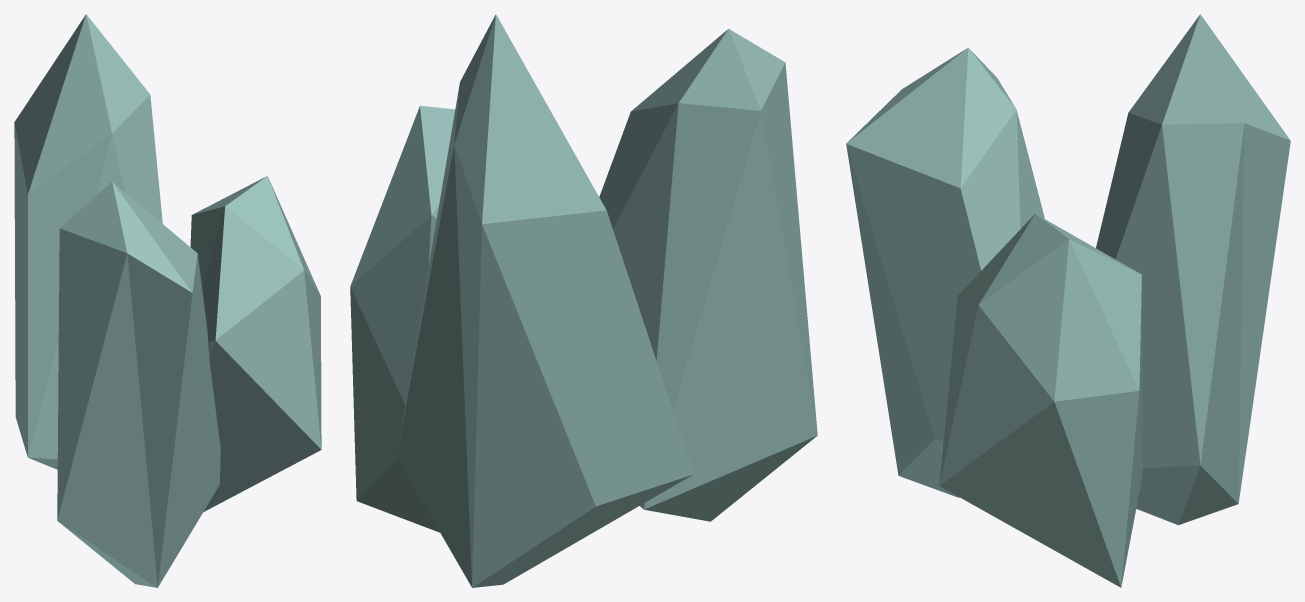
Rendered from 240519_rock_formatio_big_01.glb.
The picture shows the model from 3 angles, left to right: view 1: azimuth 30°, elevation 25°; view 2: azimuth 150°, elevation 25°; view 3: azimuth 270°, elevation 25°; orthographic projection. The views are drawn at different scales.
Visible parts, largest first — view 1: Icosphere.001, Icosphere, Icosphere.002; view 2: Icosphere, Icosphere.001, Icosphere.002; view 3: Icosphere, Icosphere.002, Icosphere.001.
Part boxes in pixels (box(x1,y1,x2,y2)): Icosphere.001: box(57, 182, 220, 587); Icosphere: box(14, 14, 162, 469); Icosphere.002: box(190, 176, 321, 511); Icosphere: box(396, 14, 693, 587); Icosphere.001: box(599, 28, 817, 521); Icosphere.002: box(350, 105, 455, 532); Icosphere: box(1096, 14, 1290, 525); Icosphere.002: box(939, 213, 1142, 587); Icosphere.001: box(846, 47, 1044, 497).
Size of the model in its own units: 5.82 by 8.72 by 6.6.
